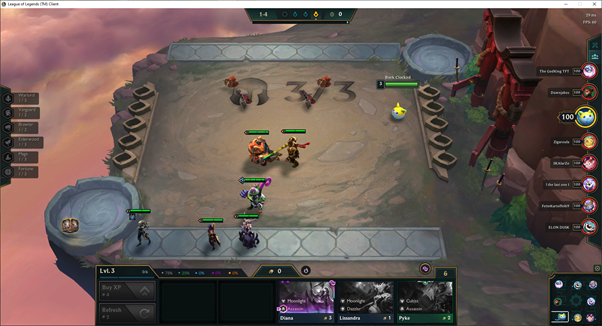1star_diana: (125, 207, 154, 252)
1star_lissandra: (230, 211, 262, 251)
1star_tahmkench: (239, 127, 285, 168)
1star_twistedfate: (196, 213, 225, 255)
2star_veigar: (234, 173, 275, 214)
trait_brawler1: (1, 119, 46, 135)
trait_elderwood1: (1, 135, 46, 151)
trait_fortune1: (1, 163, 46, 179)
trait_mage1: (1, 149, 46, 165)
trait_vanguard1: (1, 105, 46, 121)
trait_warlord1: (1, 90, 46, 106)
